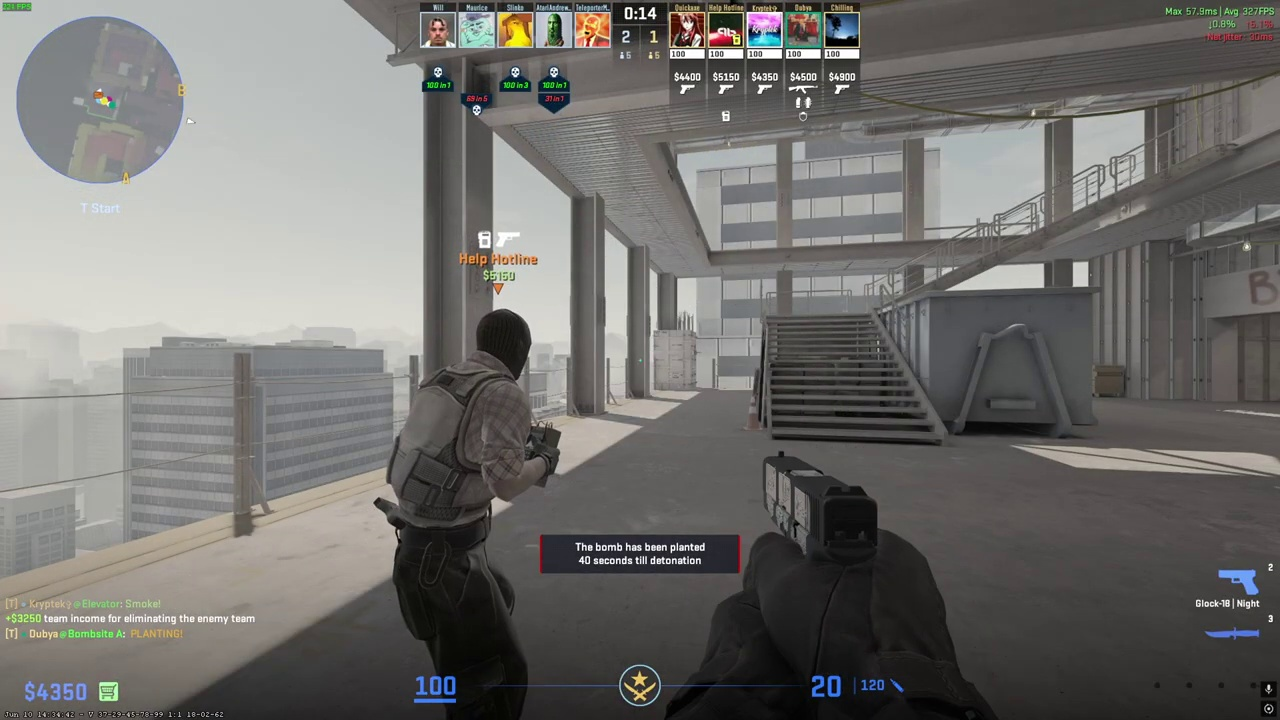Terrorist: (387, 309, 547, 718)
